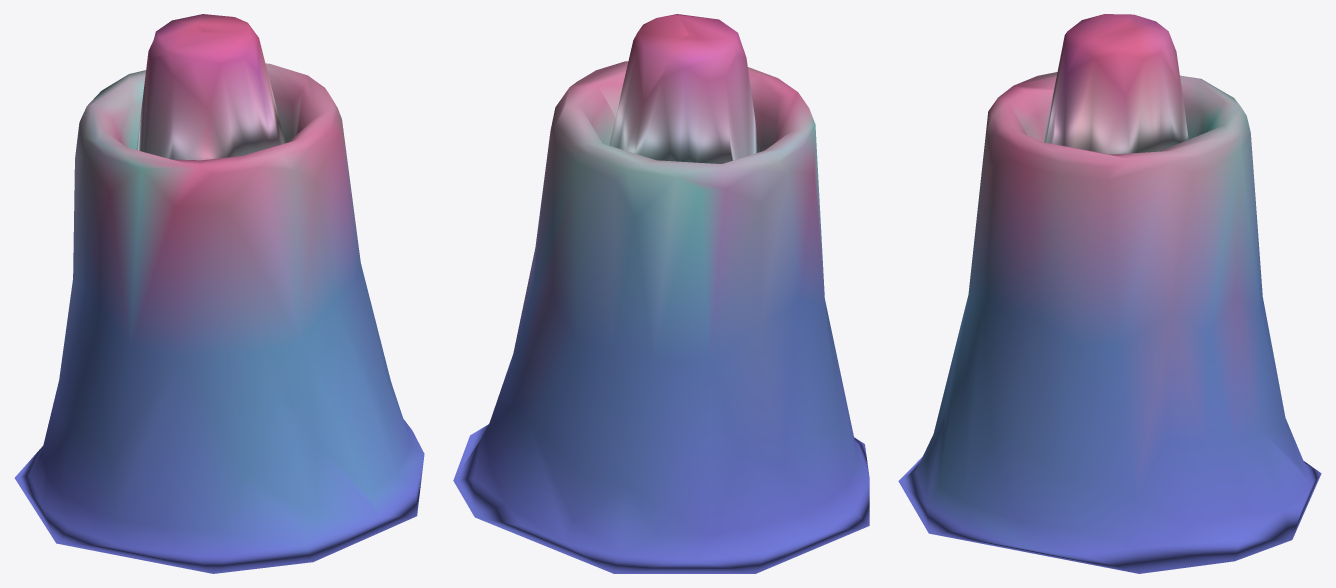
3 views of the same model, side by side, from view 1: azimuth 30°, elevation 25°; view 2: azimuth 150°, elevation 25°; view 3: azimuth 270°, elevation 25° (orthographic).
Parts seen in each view (by area): view 1: LOD 5_9fa1a421-f8e0-511a-904e-ad4428e58ba6; view 2: LOD 5_9fa1a421-f8e0-511a-904e-ad4428e58ba6; view 3: LOD 5_9fa1a421-f8e0-511a-904e-ad4428e58ba6.
Part boxes in pixels (bbox=[...]): LOD 5_9fa1a421-f8e0-511a-904e-ad4428e58ba6: bbox=[14, 14, 424, 573]; LOD 5_9fa1a421-f8e0-511a-904e-ad4428e58ba6: bbox=[453, 14, 869, 573]; LOD 5_9fa1a421-f8e0-511a-904e-ad4428e58ba6: bbox=[898, 14, 1321, 573].
Size of the model in its own units: 1.25 by 1.49 by 1.23.
